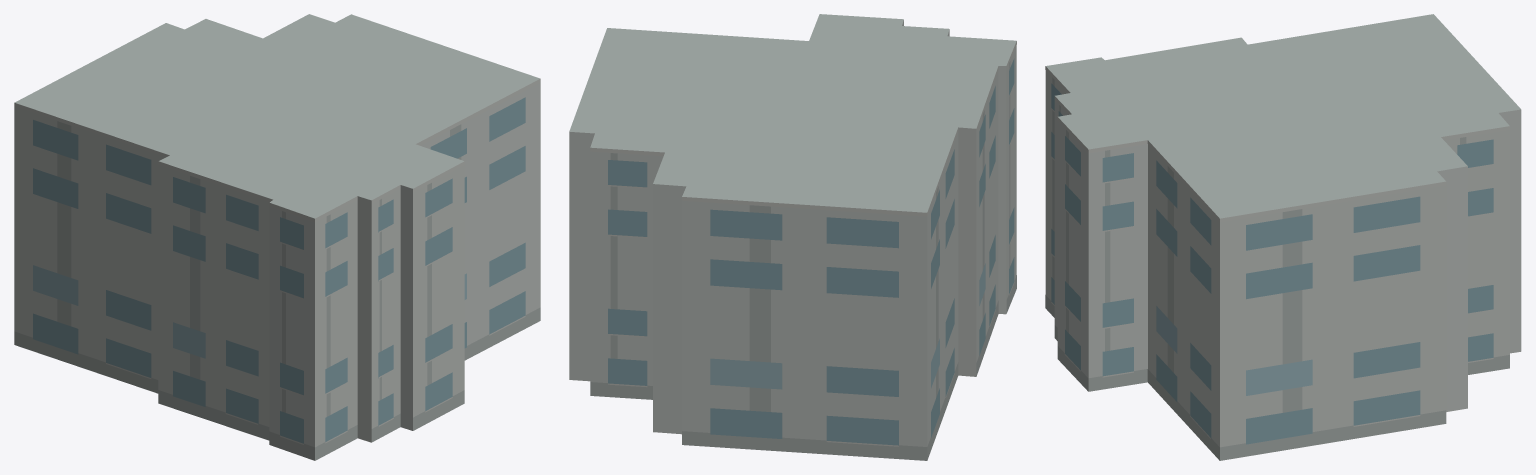
The model's file is survey-upis-32832765.glb.
The picture shows the model from 3 angles, left to right: view 1: azimuth 30°, elevation 25°; view 2: azimuth 150°, elevation 25°; view 3: azimuth 270°, elevation 25°; orthographic projection. The views are drawn at different scales.
Visible parts, largest first — view 1: survey-upis-32832765.tmp; view 2: survey-upis-32832765.tmp; view 3: survey-upis-32832765.tmp.
Part boxes in pixels (<box>): survey-upis-32832765.tmp: <box>14,14,540,460</box>; survey-upis-32832765.tmp: <box>569,14,1016,460</box>; survey-upis-32832765.tmp: <box>1045,14,1521,460</box>.
Size of the model in its own units: 27.63 by 15.25 by 27.16.
